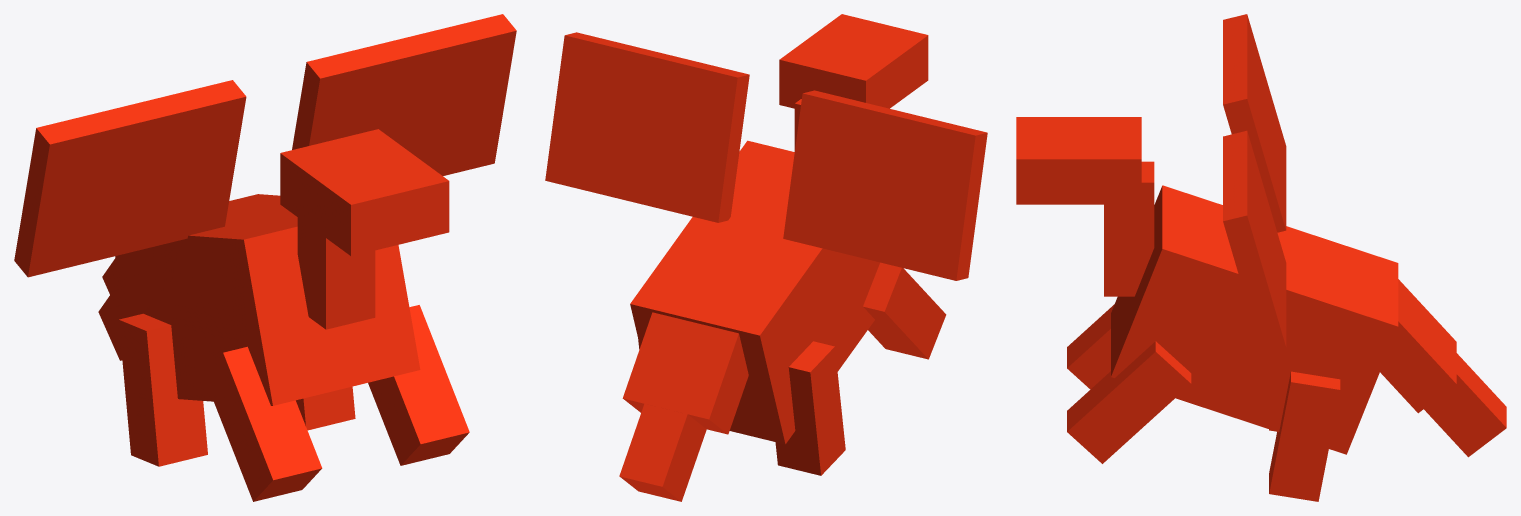
Rendered from Dragon.fbx.
3 views of the same model, side by side, from view 1: azimuth 30°, elevation 25°; view 2: azimuth 150°, elevation 25°; view 3: azimuth 270°, elevation 25° (orthographic). The views are drawn at different scales.
Parts seen in each view (by area): view 1: Cube.001; view 2: Cube.001; view 3: Cube.001.
Part boxes in pixels (x1=…): Cube.001: x1=14, y1=14, x2=516, y2=501; Cube.001: x1=545, y1=14, x2=987, y2=501; Cube.001: x1=1016, y1=14, x2=1506, y2=501.
Bounding box in the file's own units: 190 × 152 × 196.
